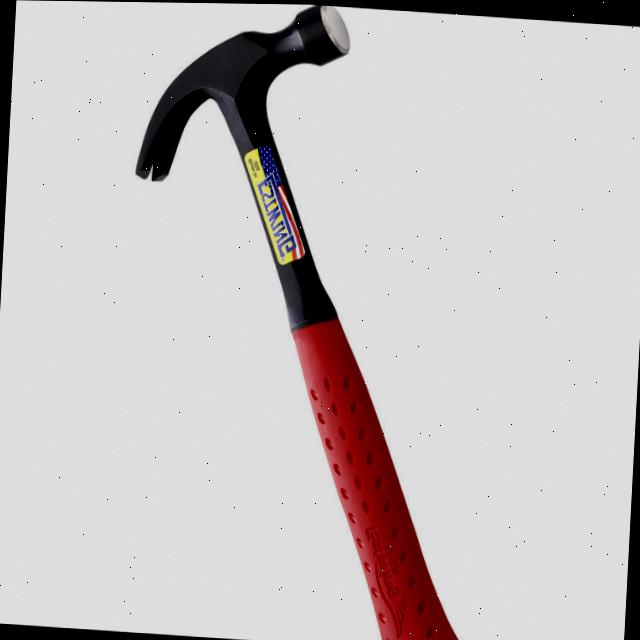hammer: (101, 1, 520, 640)
